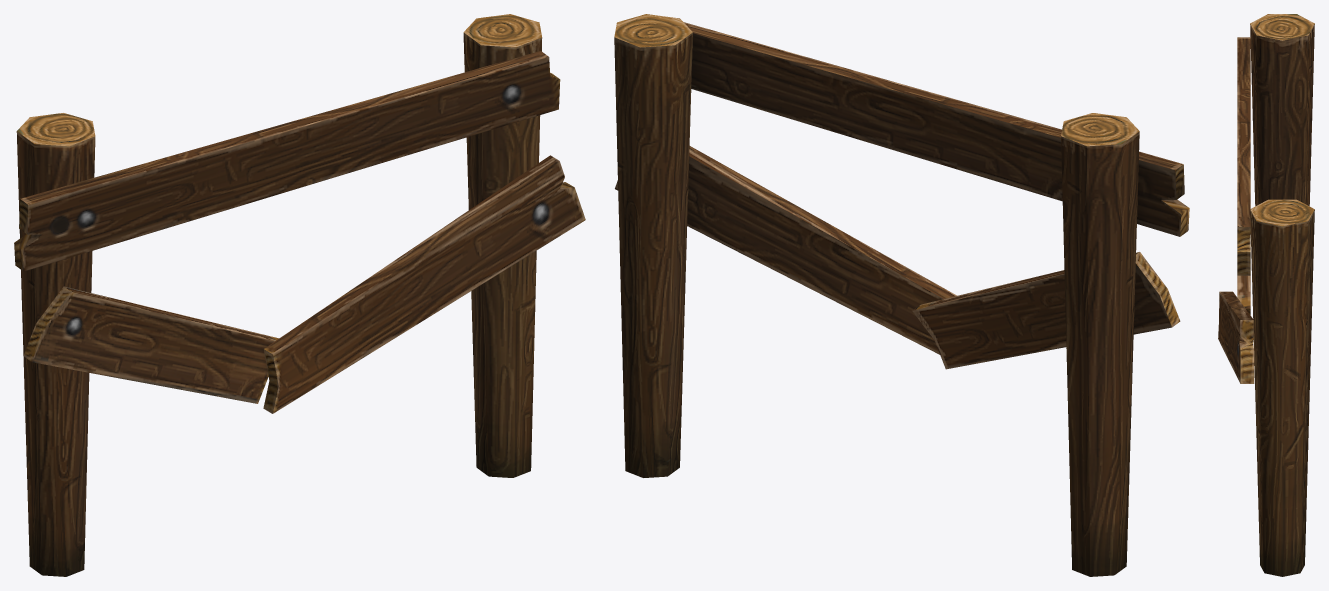
File: Fence2.fbx
3 views of the same model, side by side, from view 1: azimuth 30°, elevation 25°; view 2: azimuth 150°, elevation 25°; view 3: azimuth 270°, elevation 25° (orthographic). The views are drawn at different scales.
Parts seen in each view (by area): view 1: polySurface505; view 2: polySurface505; view 3: polySurface505.
Part boxes in pixels (x1,y1,x2,y2): polySurface505: [14, 14, 585, 576]; polySurface505: [614, 14, 1189, 576]; polySurface505: [1218, 14, 1314, 576].
Bounding box in the file's own units: 1.83 × 1.38 × 0.3334.
1 material, 1 textured.
